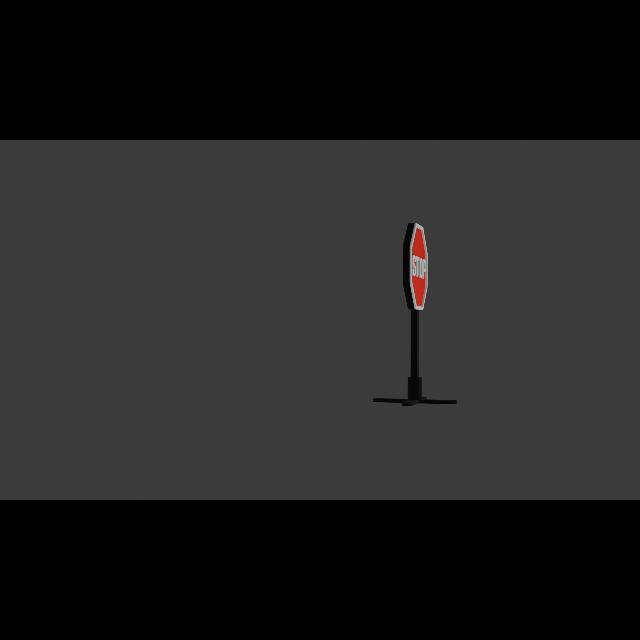sign_stop: (403, 223, 429, 311)
